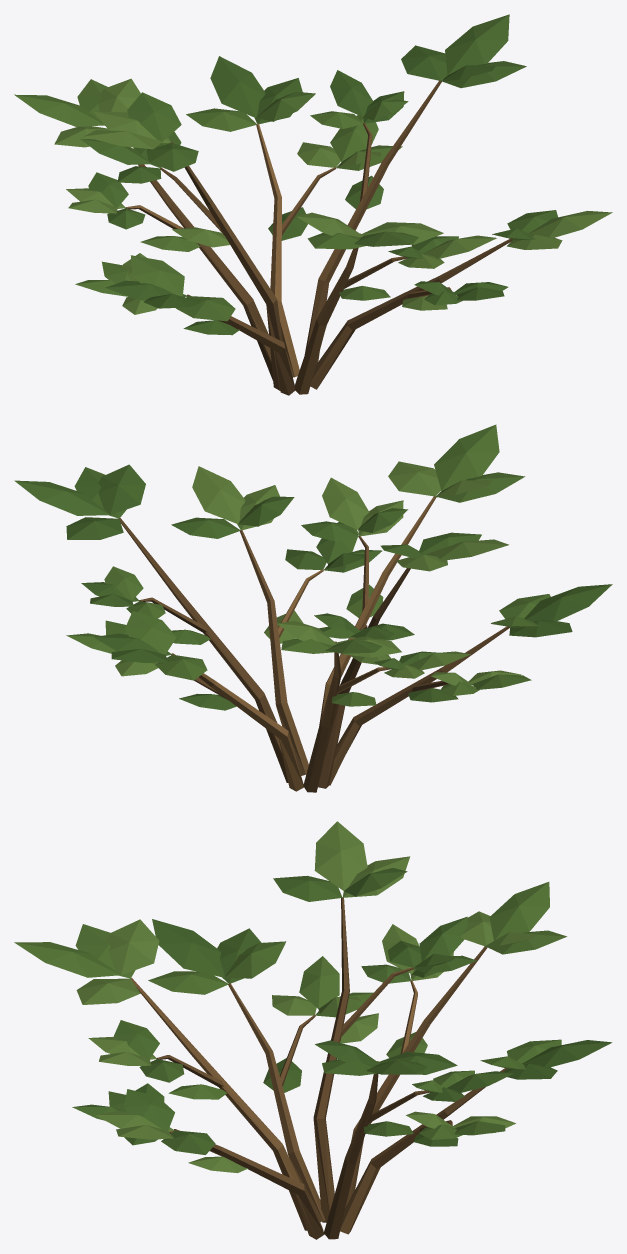
The model's file is SM_BushSparse.fbx.
3 renders of one model, top to bottom at view 1: azimuth 30°, elevation 25°; view 2: azimuth 150°, elevation 25°; view 3: azimuth 270°, elevation 25°, orthographic. The views are drawn at different scales.
Parts seen in each view (by area): view 1: SM_BushSparse; view 2: SM_BushSparse; view 3: SM_BushSparse.
Boxes of the visible parts, x1,y1,x2,y2 form: SM_BushSparse: (14,14,612,395); SM_BushSparse: (14,424,612,792); SM_BushSparse: (14,821,612,1239).
Size of the model in its own units: 1.23 by 1.28 by 0.7226.
Materials: 1 (1 with a texture image).
